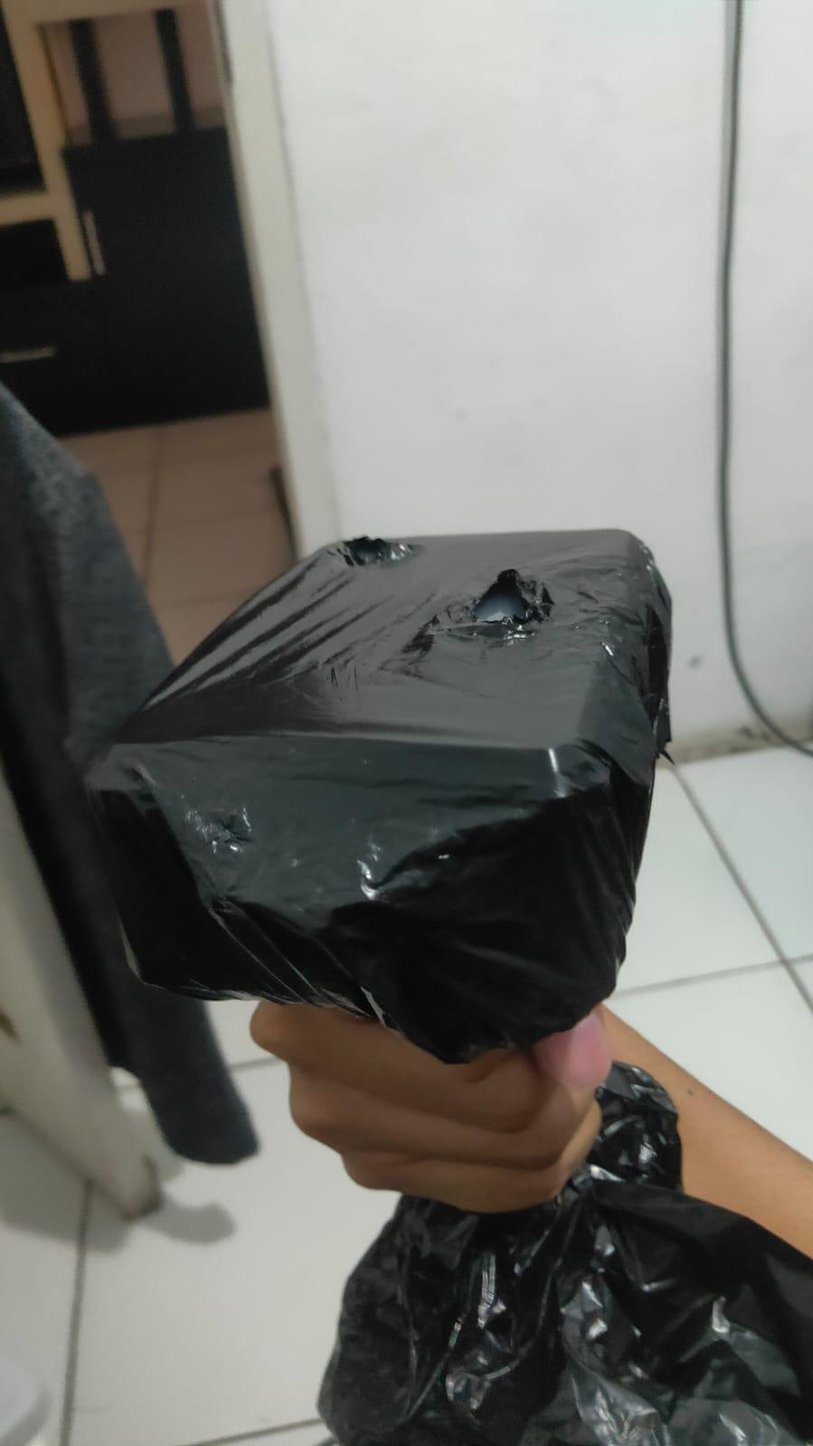damaged package: (435, 563, 556, 637), (334, 533, 411, 570)
undamaged: (75, 523, 681, 1068)
